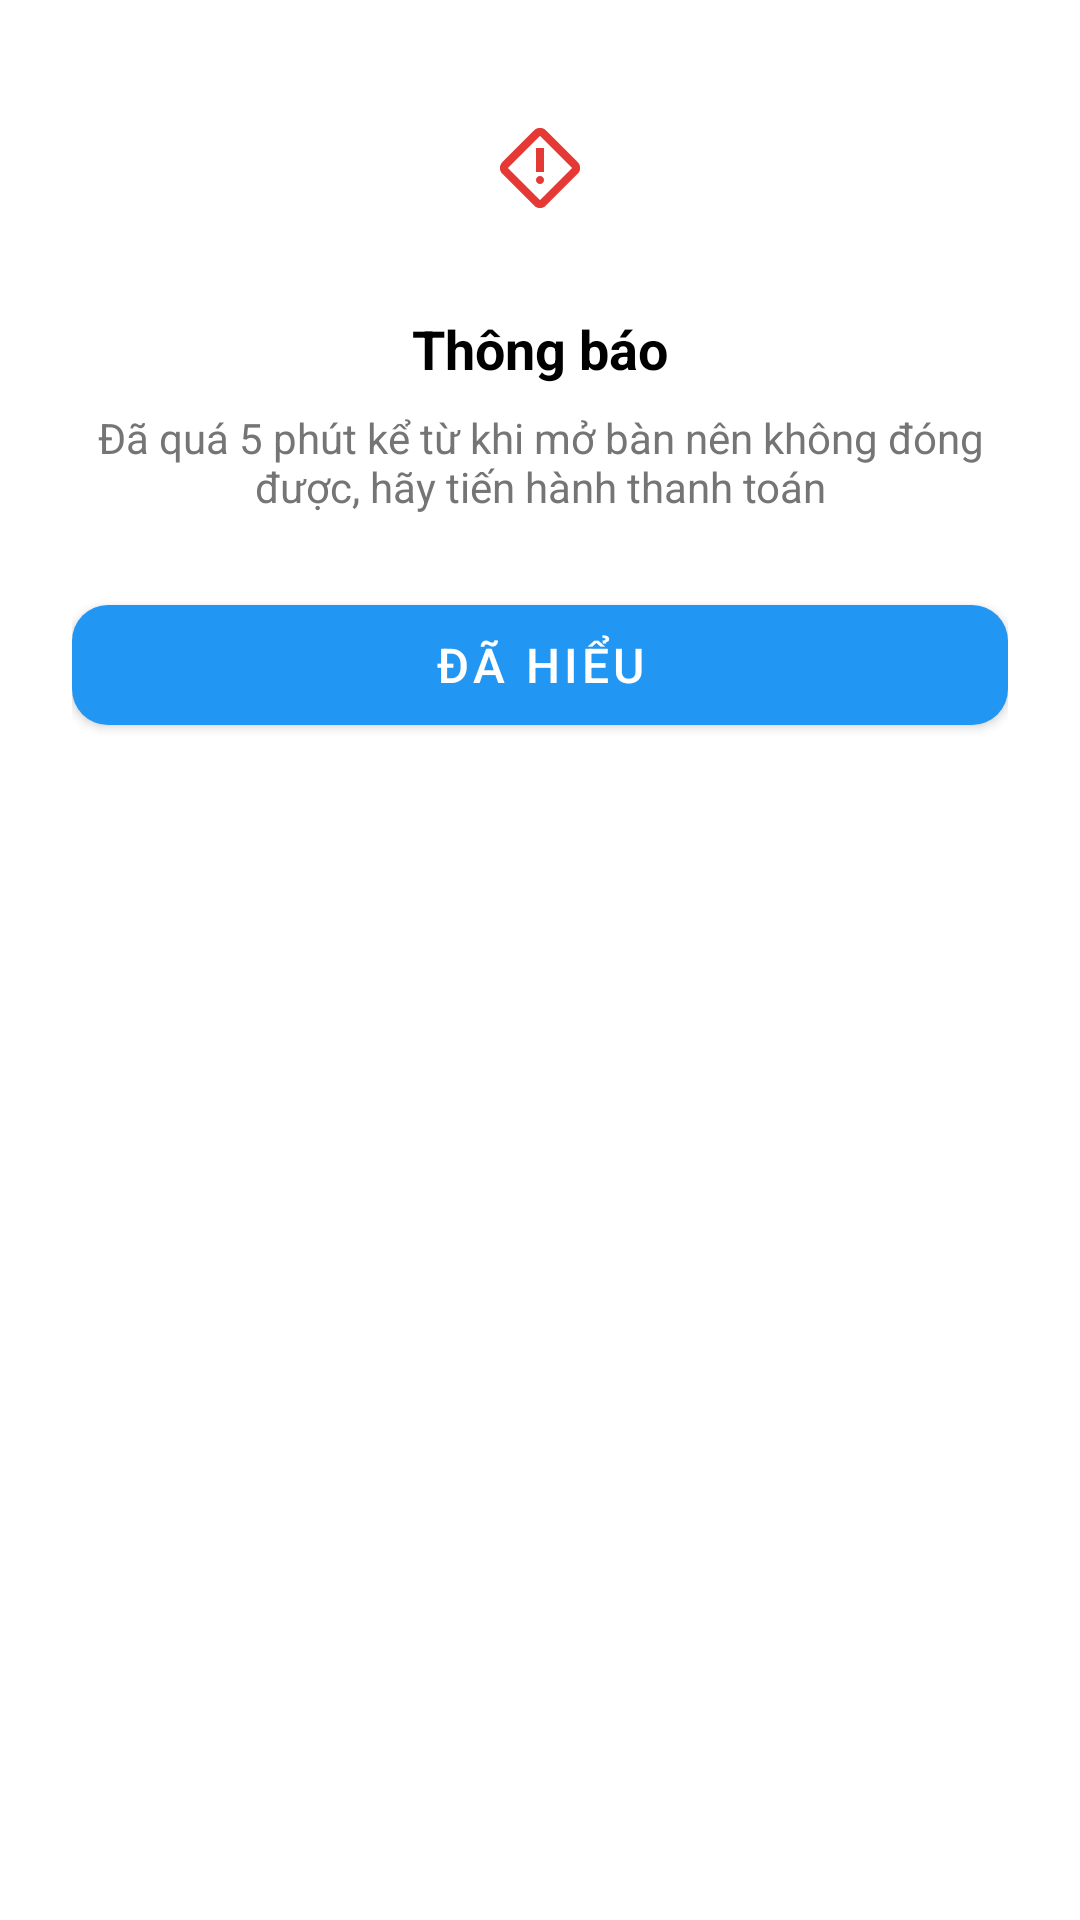

Named icons in this screenshot (1080*1920) and their bounding boxes, (x1, y1, x2, y2):
alert: (500, 128, 580, 208)
